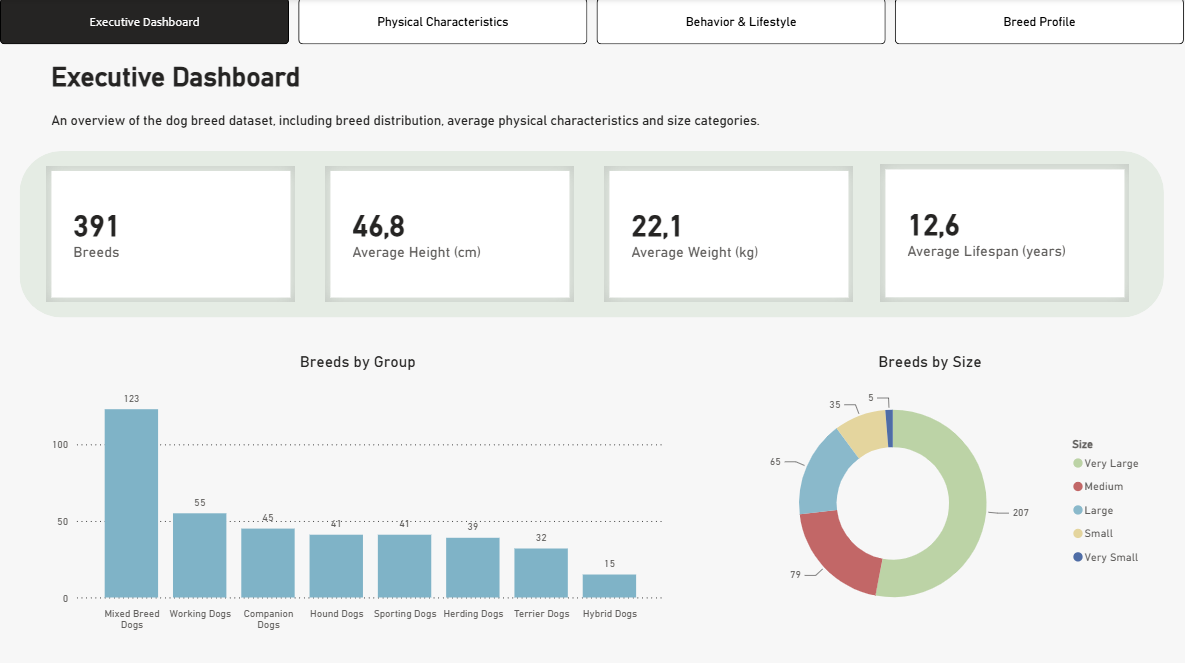

Layout of this report page (visuals, bound fields, positions):
{"tool":"powerbi","page":{"name":"Executive Dashboard","canvas":[1280,720],"ordinal":0},"visuals":[{"type":"shape","box":[21,165.2,1235.5,179.7],"z":1000},{"type":"cardVisual","fields":{"Data":["Metriky.Průměrná výška"]},"box":[351.4,181.4,268.8,147.3],"z":2000},{"type":"cardVisual","fields":{"Data":["Metriky.Průměrná hmotnost"]},"box":[652.5,181.4,268.8,147.3],"z":3000},{"type":"cardVisual","fields":{"Data":["Metriky.Průměrná délka života"]},"box":[950.5,179.7,268.8,149],"z":4000},{"type":"columnChart","title":"Breeds by Group","fields":{"Category":["Breed Groups.Dog Breed Group"],"Y":["Metriky.Počet plemen"]},"box":[50.2,382.1,672,307.7],"z":5000},{"type":"donutChart","title":"Breeds by Size","fields":{"Category":["Dog Sizes.Dog Size"],"Y":["Metriky.Počet plemen"]},"box":[763.8,382.8,479.3,306.9],"z":6000},{"type":"pageNavigator","box":[0,0,1280.8,50.2],"z":7000},{"type":"textbox","box":[50.2,63.1,555.4,79.3],"z":8000},{"type":"textbox","box":[50.2,118.2,1135.1,47],"z":9000},{"type":"cardVisual","fields":{"Data":["Metriky.Počet plemen"]},"box":[50.2,181.4,268.8,147.3],"z":9500}]}

Visuals, with their boxes in screenshot pixels (x1, y1, x2, y2), scaled from the page's 1280x720 canvas onto the 1185x663 screenshot:
shape: <box>19,152,1163,318</box>
cardVisual - Metriky.Průměrná výška: <box>325,167,574,303</box>
cardVisual - Metriky.Průměrná hmotnost: <box>604,167,853,303</box>
cardVisual - Metriky.Průměrná délka života: <box>880,165,1129,303</box>
"Breeds by Group" columnChart: <box>46,352,669,635</box>
"Breeds by Size" donutChart: <box>707,352,1151,635</box>
pageNavigator: <box>0,0,1184,46</box>
textbox: <box>46,58,561,131</box>
textbox: <box>46,109,1097,152</box>
cardVisual - Metriky.Počet plemen: <box>46,167,295,303</box>
